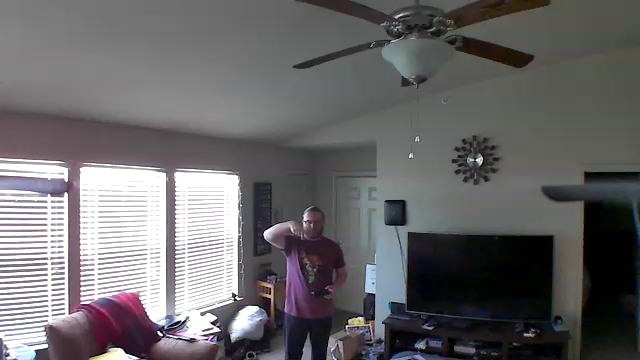down: (287, 218, 309, 243)
